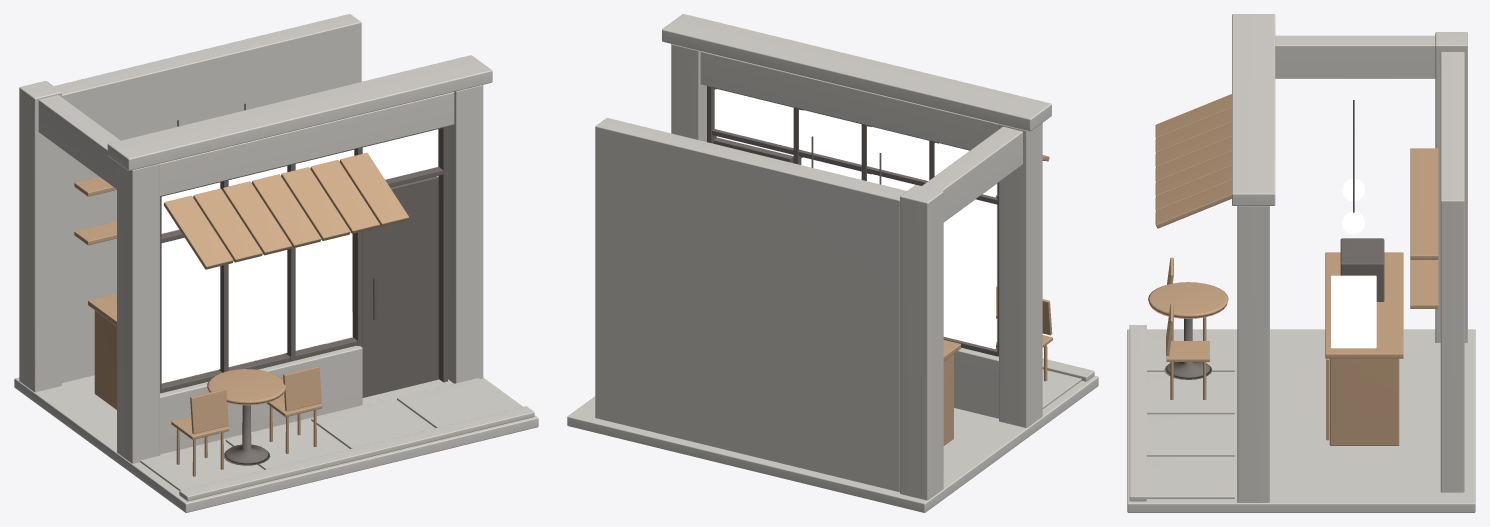
File: modern-corner-bakery-cafe-bay-v14.glb
The picture shows the model from 3 angles, left to right: view 1: azimuth 30°, elevation 25°; view 2: azimuth 150°, elevation 25°; view 3: azimuth 270°, elevation 25°; orthographic projection.
Visible parts, largest first — view 1: CafeStoneShell, CafeOakJoinery, CafeBronzeFrames, CafeGlazingAndLamps; view 2: CafeStoneShell, CafeGlazingAndLamps, CafeBronzeFrames, CafeOakJoinery; view 3: CafeStoneShell, CafeOakJoinery, CafeGlazingAndLamps, CafeBronzeFrames.
Part boxes in pixels (left/top/right/bottom): CafeStoneShell: left=14, top=14, right=538, bottom=512; CafeOakJoinery: left=74, top=153, right=409, bottom=476; CafeBronzeFrames: left=160, top=103, right=447, bottom=465; CafeGlazingAndLamps: left=161, top=129, right=437, bottom=383; CafeStoneShell: left=567, top=14, right=1098, bottom=512; CafeGlazingAndLamps: left=714, top=89, right=995, bottom=348; CafeBronzeFrames: left=707, top=86, right=998, bottom=356; CafeOakJoinery: left=943, top=155, right=1052, bottom=445; CafeStoneShell: left=1127, top=14, right=1475, bottom=512; CafeOakJoinery: left=1148, top=94, right=1438, bottom=445; CafeGlazingAndLamps: left=1331, top=178, right=1376, bottom=348; CafeBronzeFrames: left=1164, top=100, right=1384, bottom=379.
Size of the model in its own units: 3.92 by 3.27 by 3.2.
